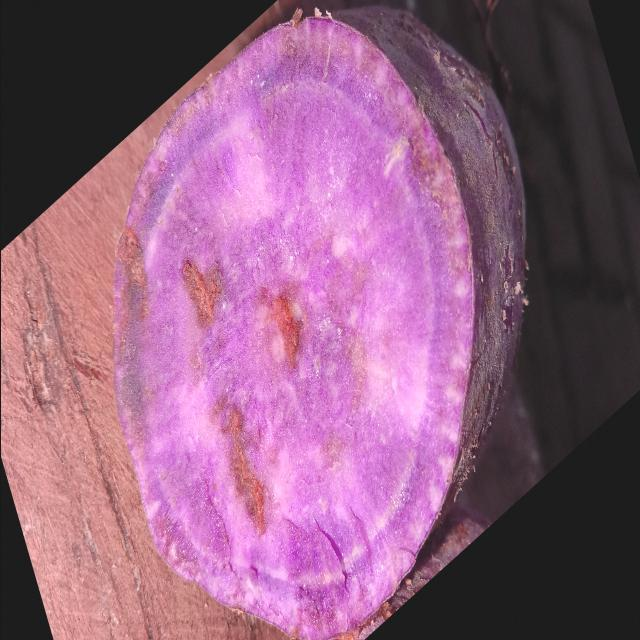Sick Sweet Potato_Tuber Rot: (114, 18, 471, 638)
